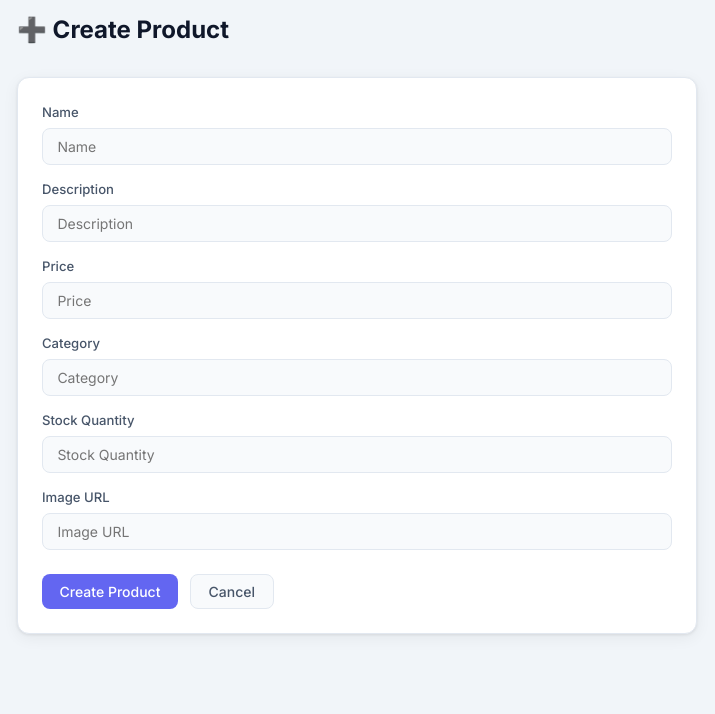
Test: ProductForm › shows server error on save failure
The image size is (715, 714).
Type "Car" into the field with placeholder "Name" at (357, 147), box [42,128,672,165]
Type "A fancy car" into the field with placeholder "Description" at (357, 224), box [42,205,672,242]
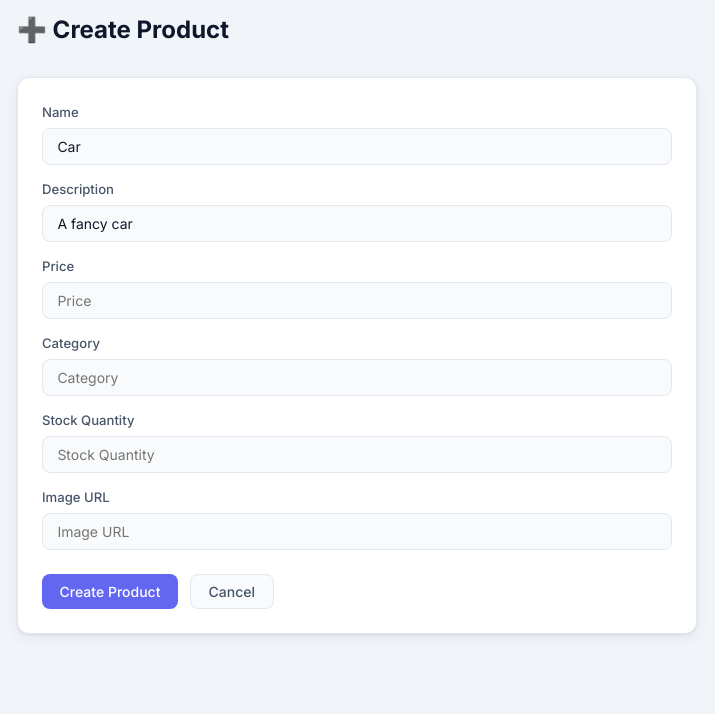
Type "42.5" into the number field with test id "price-input" at (357, 301), box [42,282,672,319]
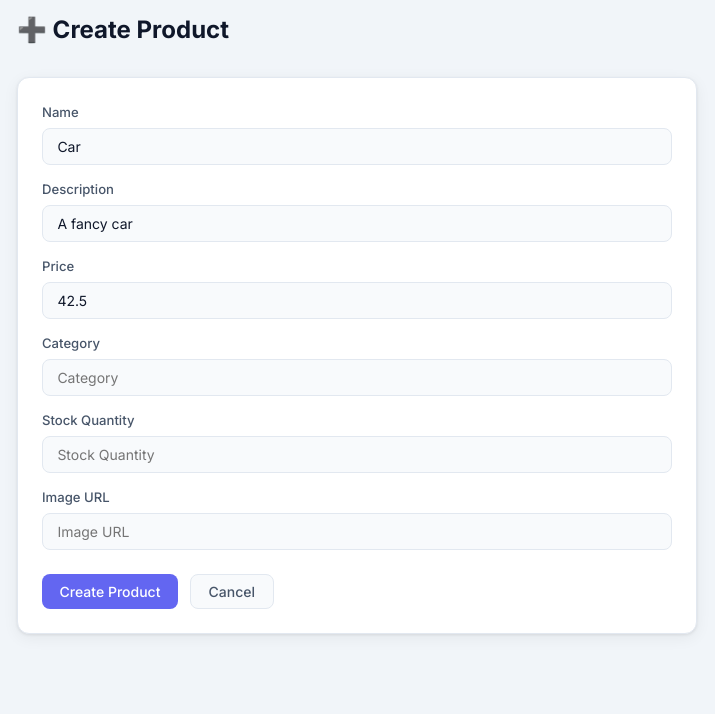
Type "Vehicles" into the field with test id "category-input" at (357, 378), box [42,359,672,396]
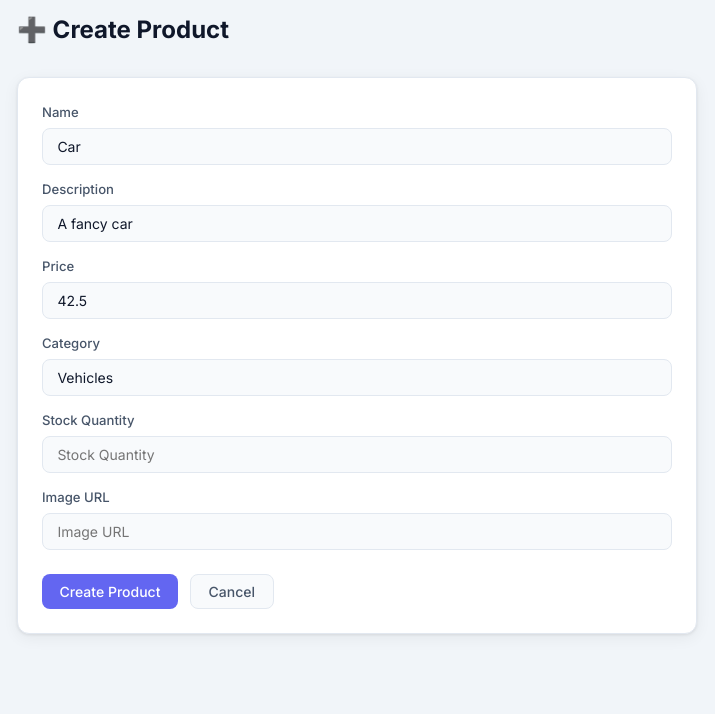
Type "6" into the number field with placeholder "Stock Quantity" at (357, 455), box [42,436,672,473]
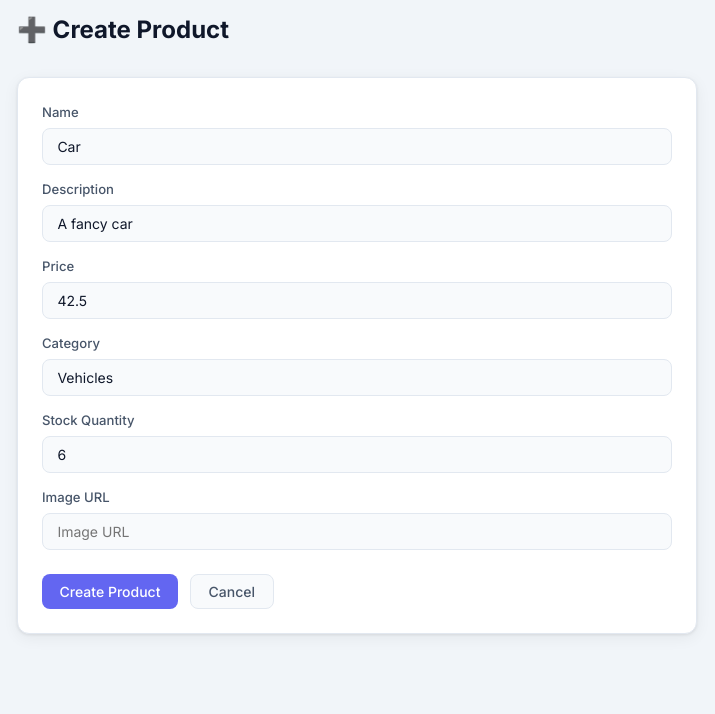
Type "http://test.img" into the field with placeholder "Image URL" at (357, 532), box [42,513,672,550]
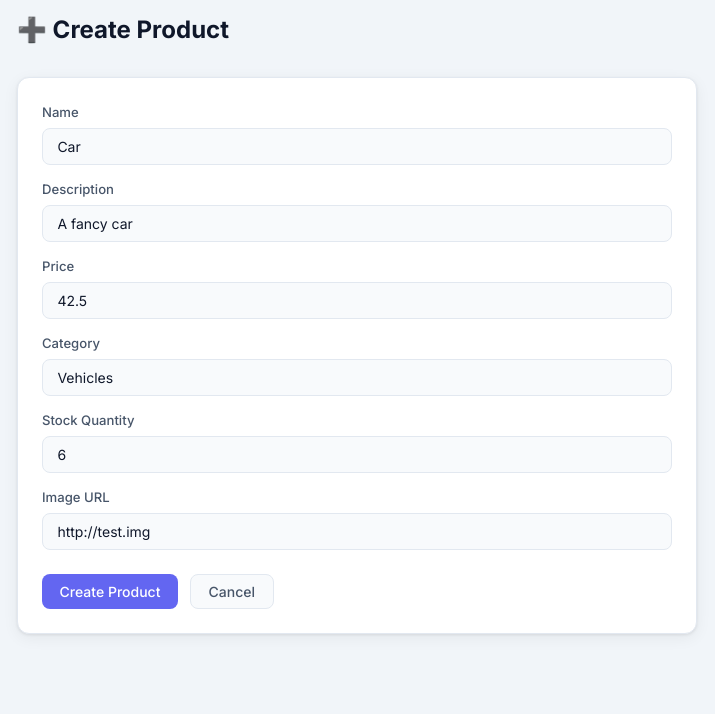
Click the button with test id "form-save" at (110, 591), box [42,574,178,609]
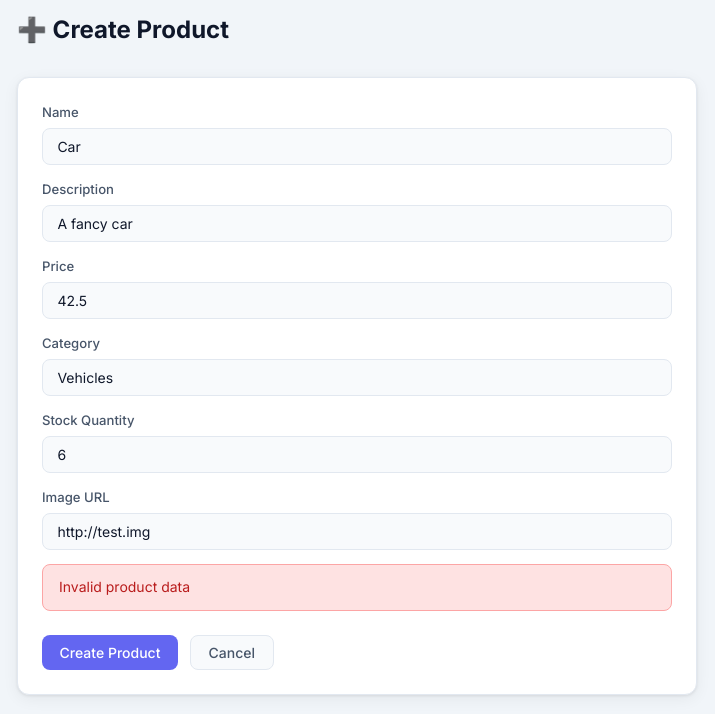
Now the text "Invalid product data" is shown, box [42,564,672,611]
